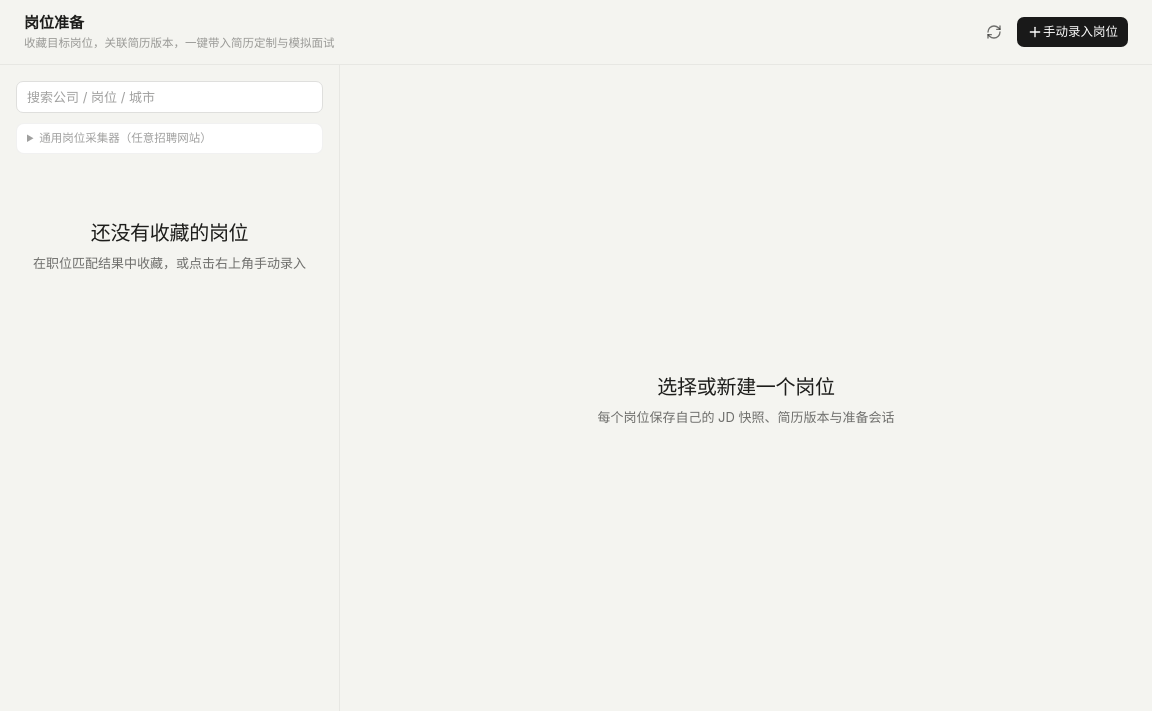
Scenario: PreparationPage › 手动录入：空 JD 阻止保存且不发起请求；填写后保存成功
Expected: the heading "还没有收藏的岗位" is shown, [91, 221, 248, 245]
Click the button "手动录入岗位".
click(1072, 32)  # box [1017, 17, 1128, 47]
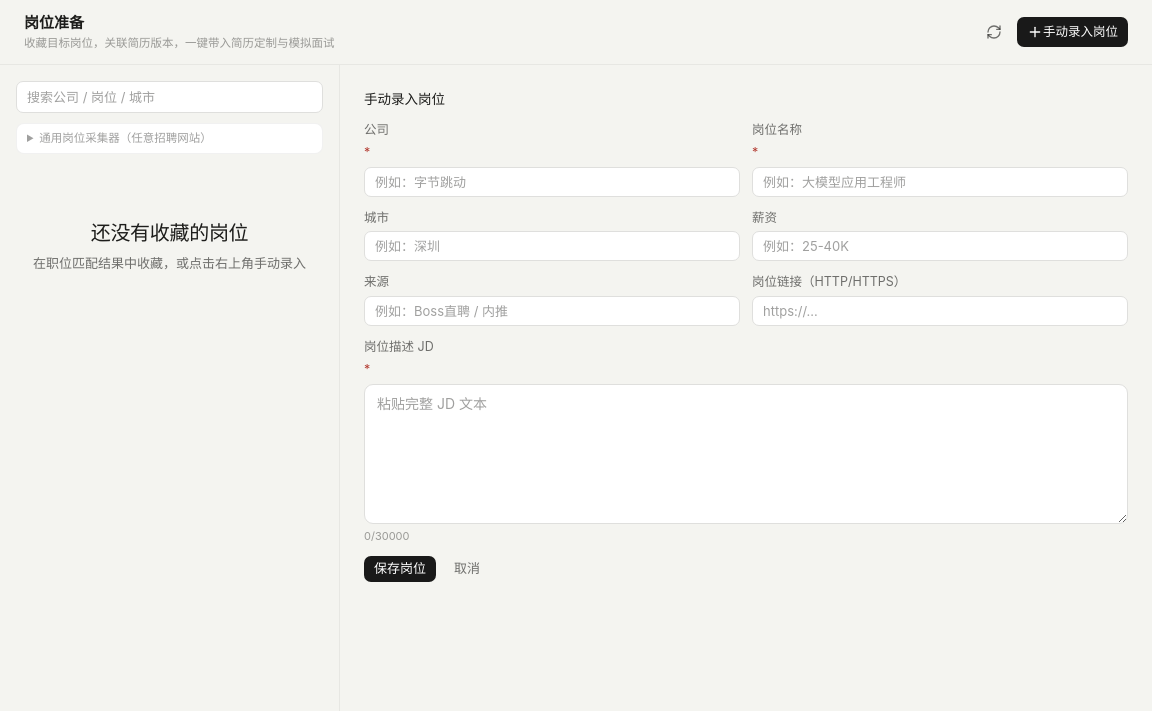
Click the button "保存岗位".
click(400, 569)  # box [364, 556, 436, 582]
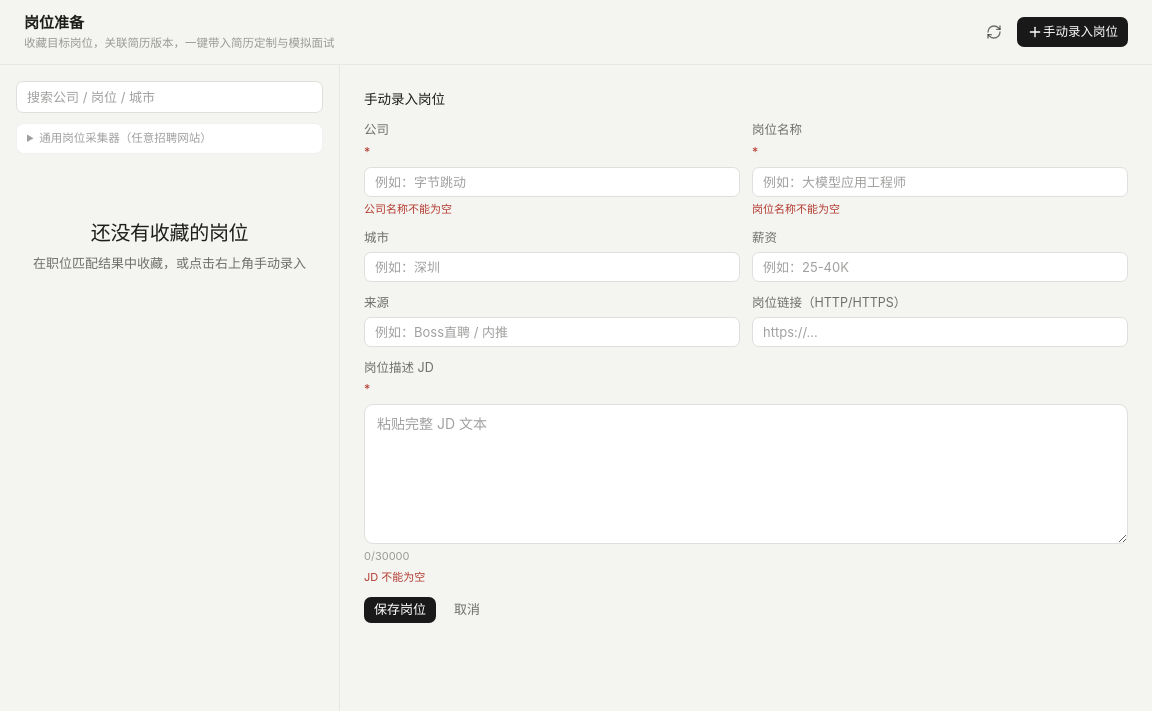
Result: the text "公司名称不能为空" is shown at [364, 202, 452, 216]
Type "测试公司" into the field with placeholder "例如：字节跳动".
click(552, 182); type("测试公司")  # box [364, 166, 740, 196]
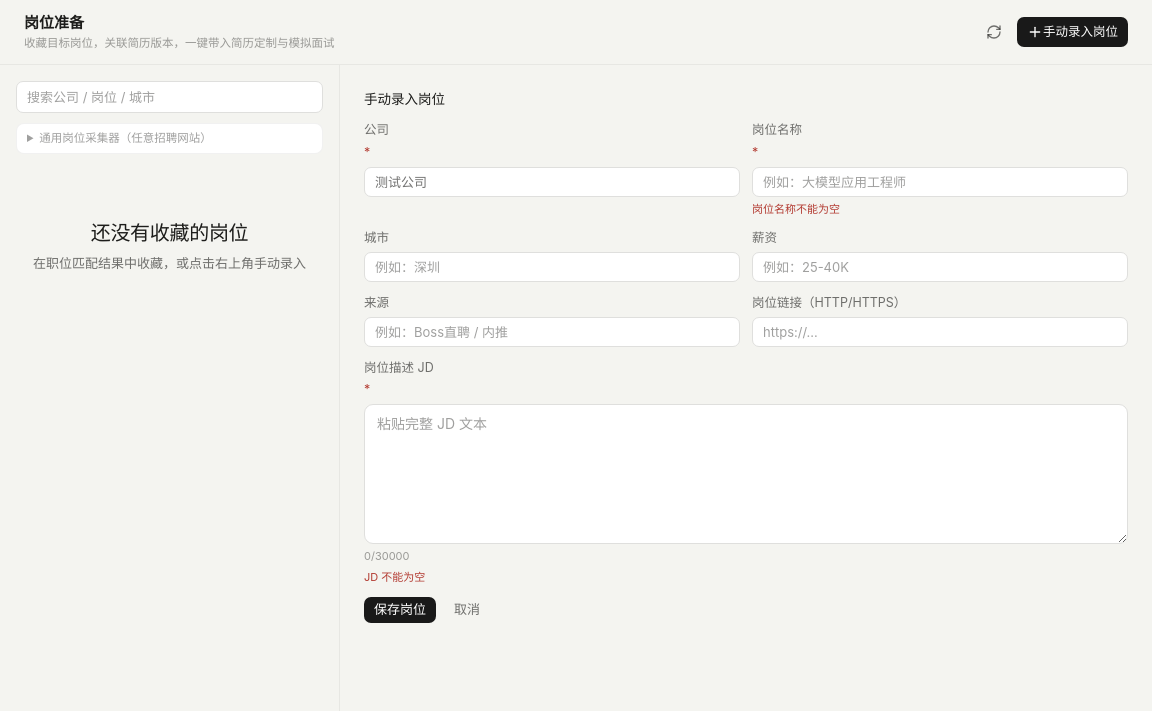
Type "Java开发" into the field with placeholder "例如：大模型应用工程师".
click(940, 182); type("Java开发")  # box [752, 166, 1128, 196]
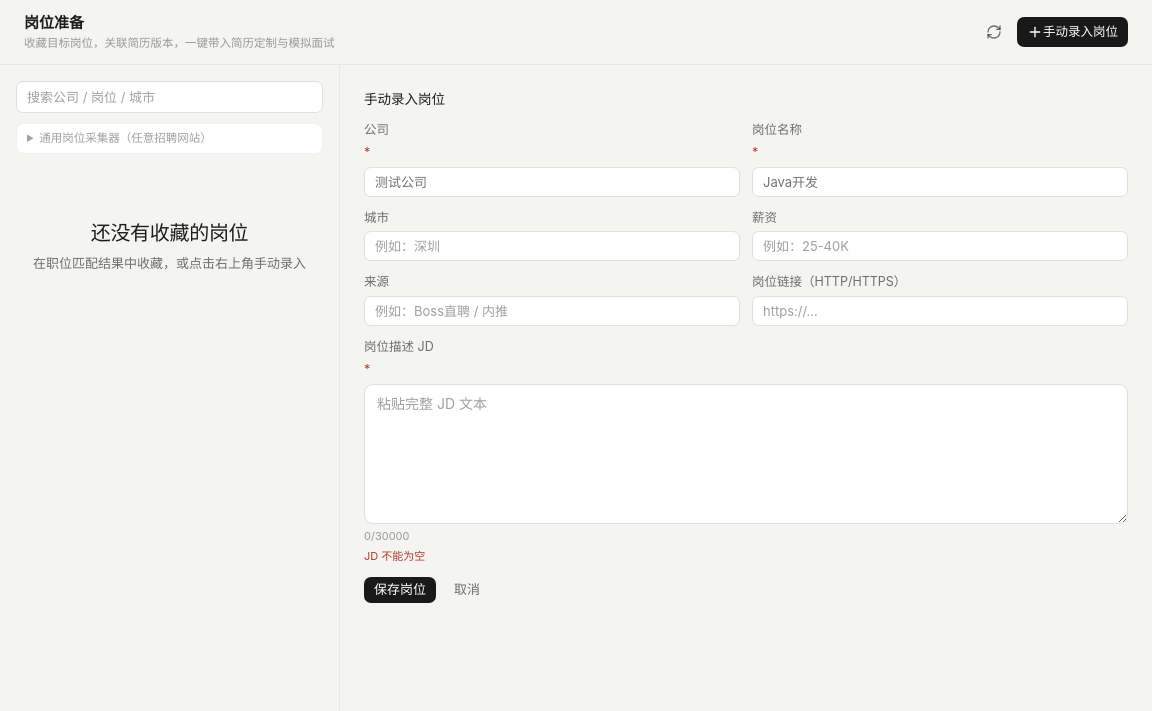
Type "负责接口开发" into the text box with placeholder "粘贴完整 JD 文本".
click(746, 454); type("负责接口开发")  # box [364, 384, 1128, 524]
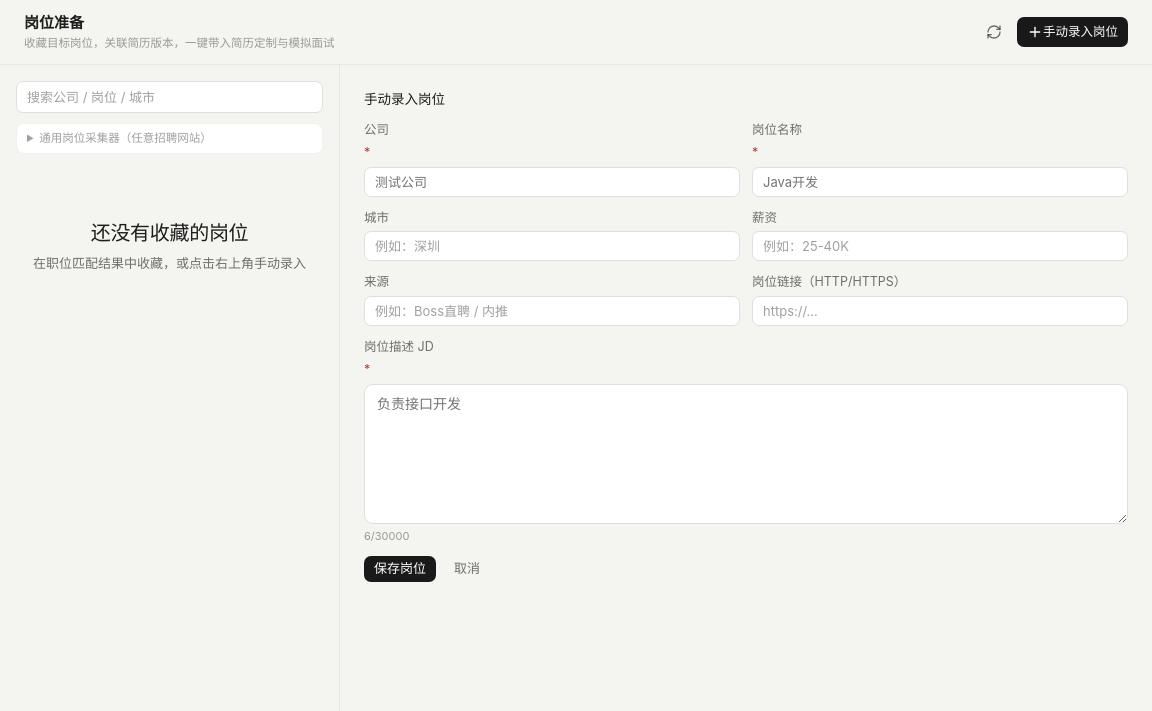
Click the button "保存岗位".
click(400, 569)  # box [364, 556, 436, 582]
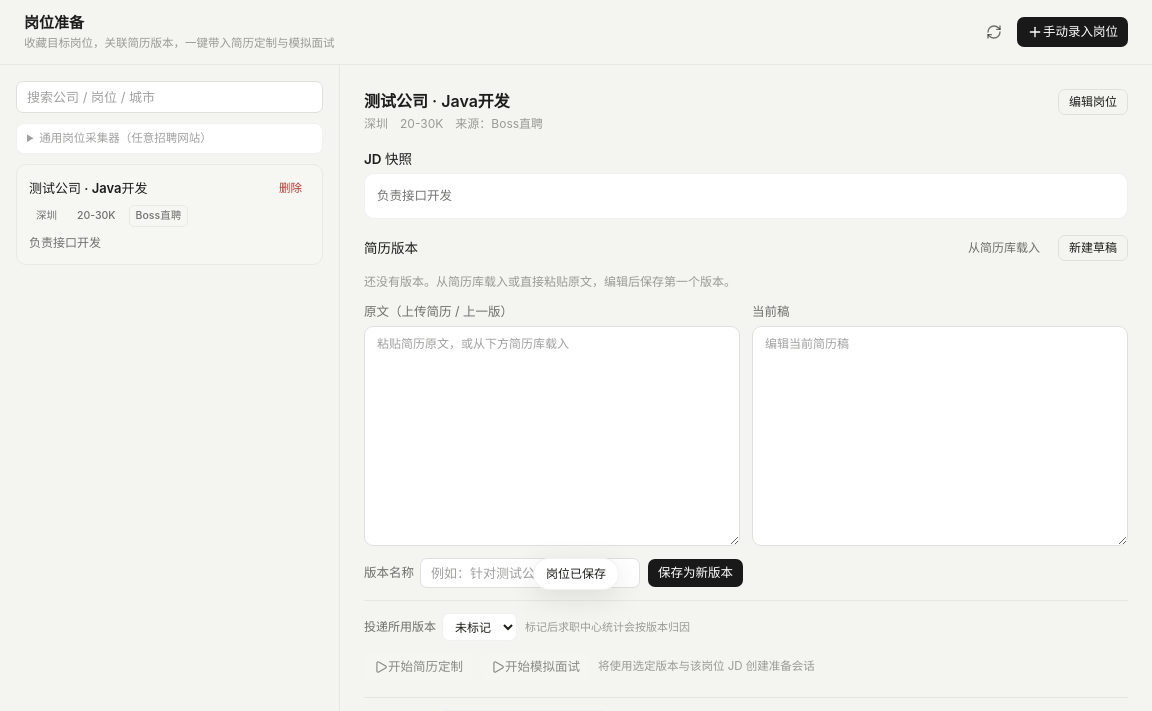
Result: the heading "JD 快照" is shown at [364, 151, 412, 167]
